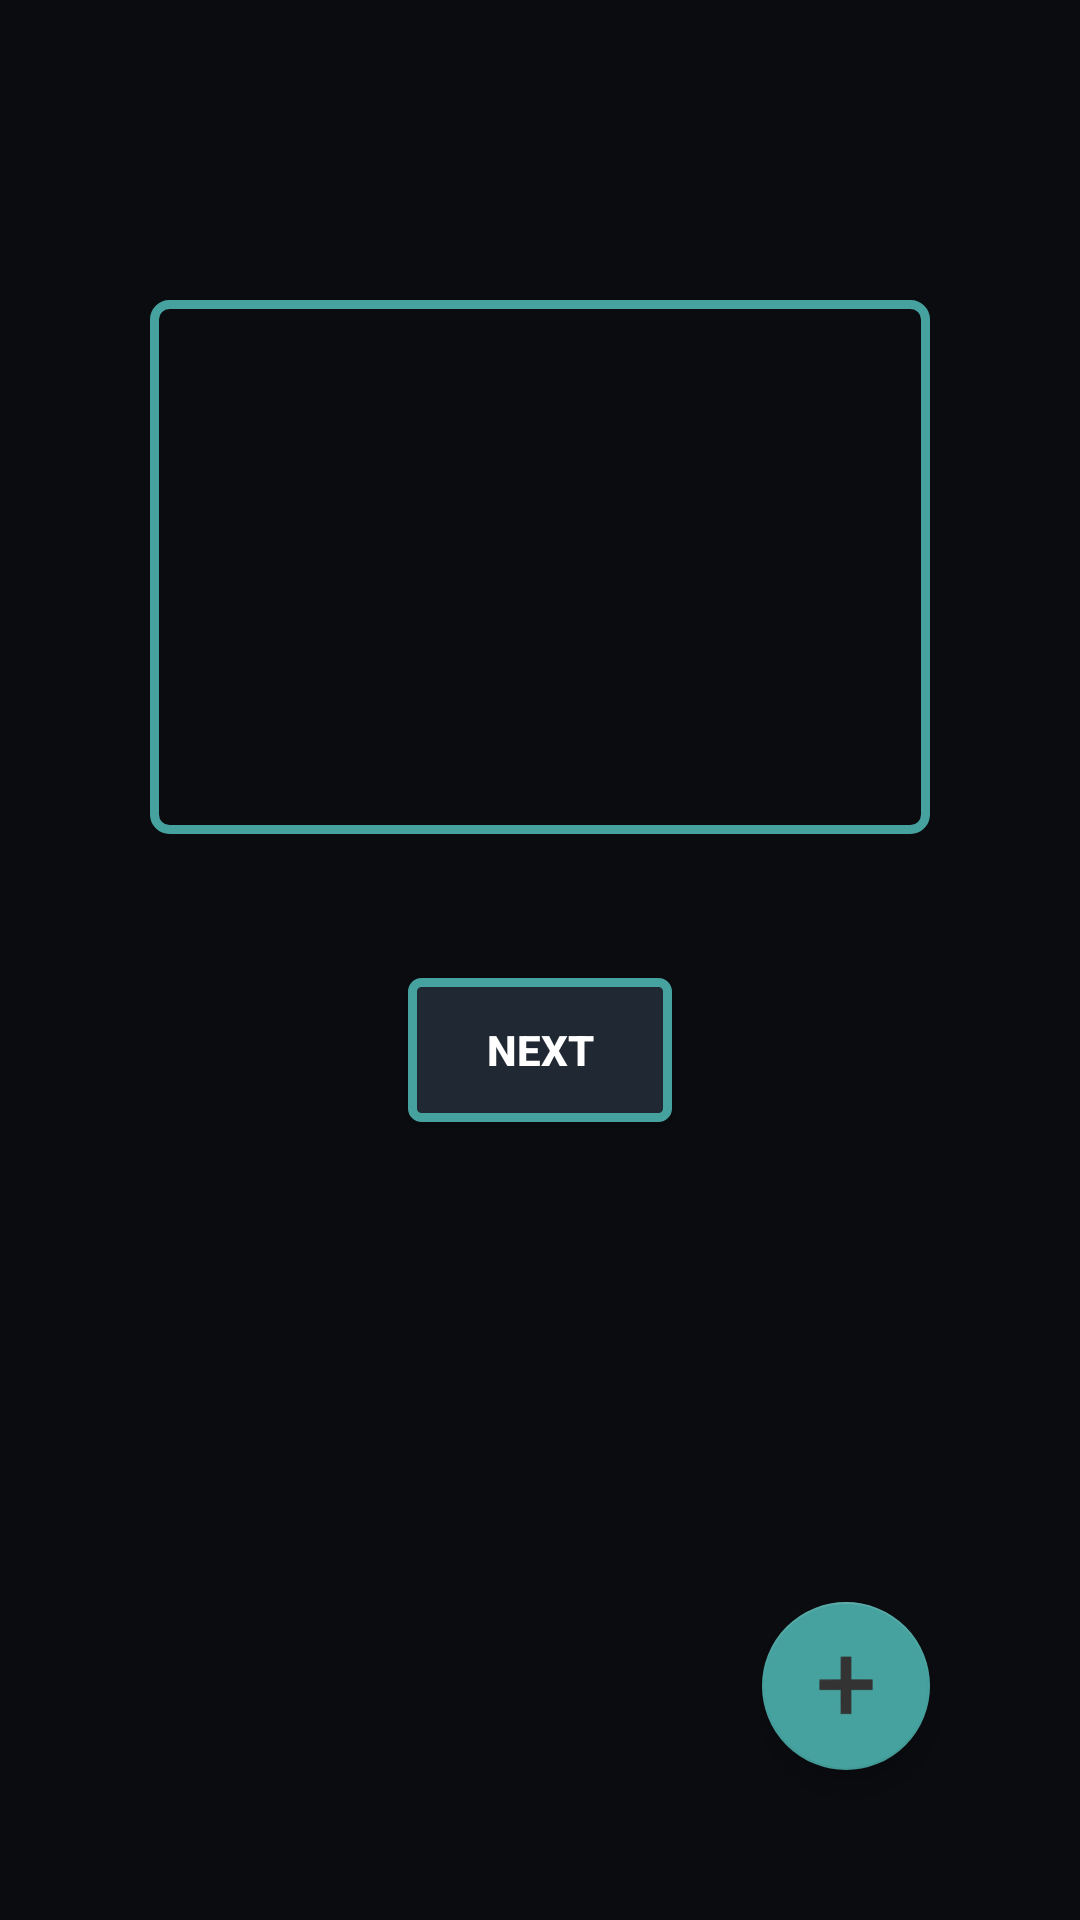

Screen size 1080px×1920px. Icon name, then its box in pixels as BBox(x1, y1, x2, y2):
add: BBox(762, 1602, 930, 1770)
